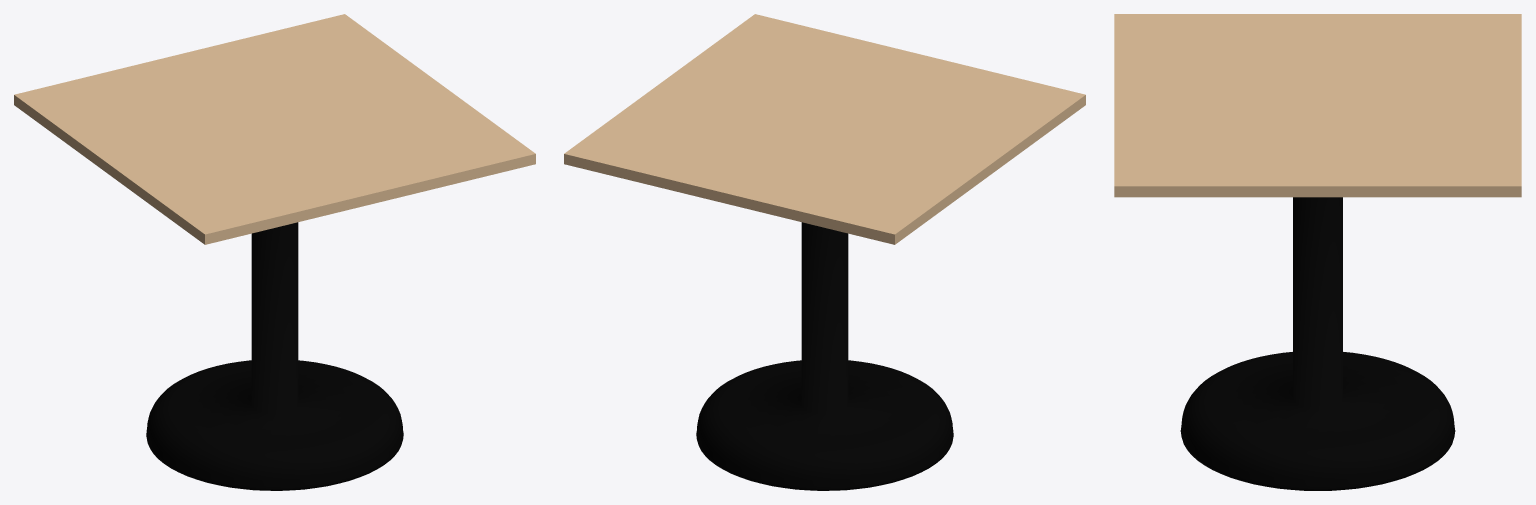
Rendered from rectangle table.fbx.
3 renders of one model, left to right at view 1: azimuth 30°, elevation 25°; view 2: azimuth 150°, elevation 25°; view 3: azimuth 270°, elevation 25°, orthographic. The views are drawn at different scales.
Parts seen in each view (by area): view 1: Table, Frame; view 2: Table, Frame; view 3: Table, Frame.
Boxes of the visible parts, x1,y1,x2,y2 form: Table: (14, 14, 535, 244); Frame: (146, 222, 403, 490); Table: (564, 14, 1085, 244); Frame: (696, 222, 953, 490); Table: (1114, 14, 1521, 197); Frame: (1180, 197, 1455, 490).
Size of the model in its own units: 100 by 90.29 by 100.
